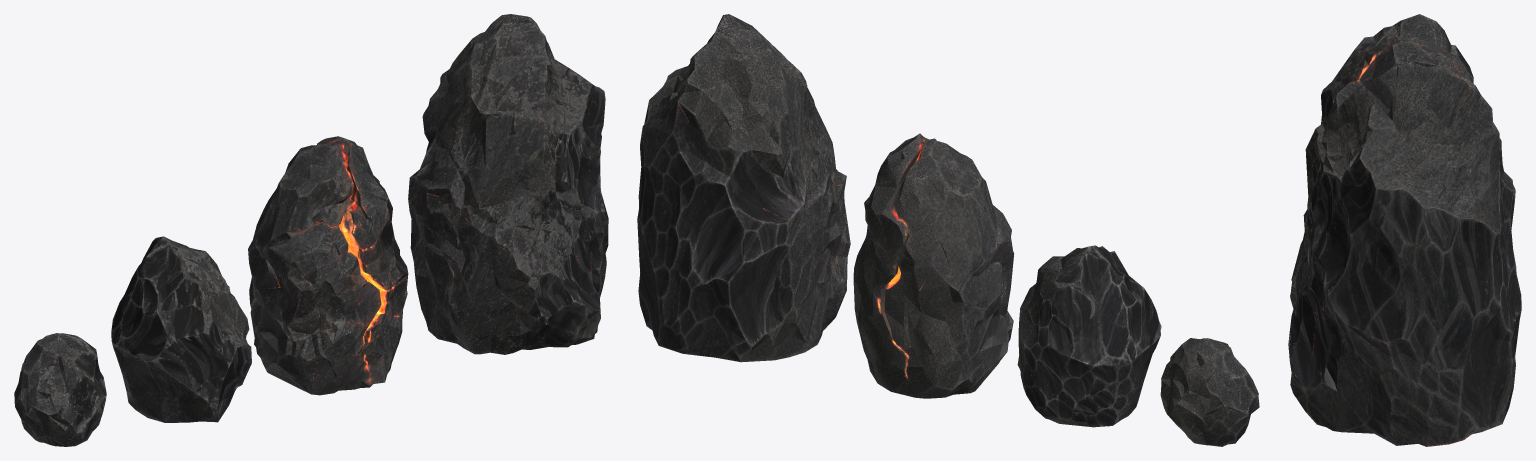
The model's file is stones.glb.
3 views of the same model, side by side, from view 1: azimuth 30°, elevation 25°; view 2: azimuth 150°, elevation 25°; view 3: azimuth 270°, elevation 25° (orthographic). The views are drawn at different scales.
Size of the model in its own units: 1.9 by 0.9296 by 0.5625.
Materials: 1 (1 with a texture image).
